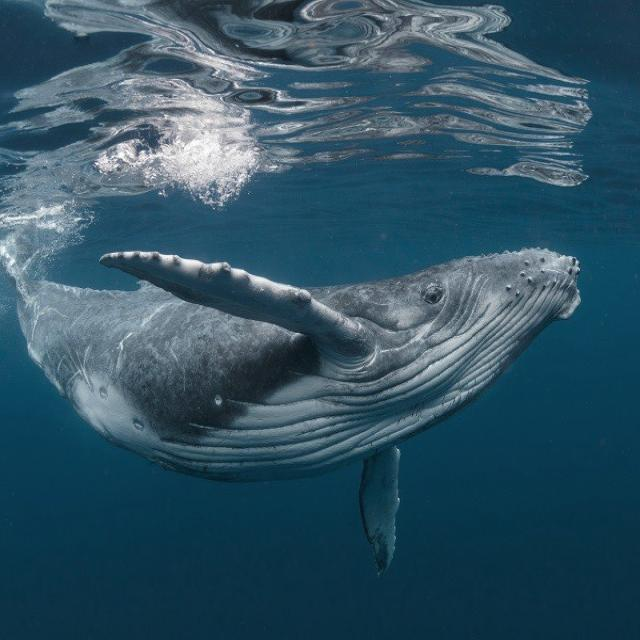whale: (18, 249, 580, 571)
